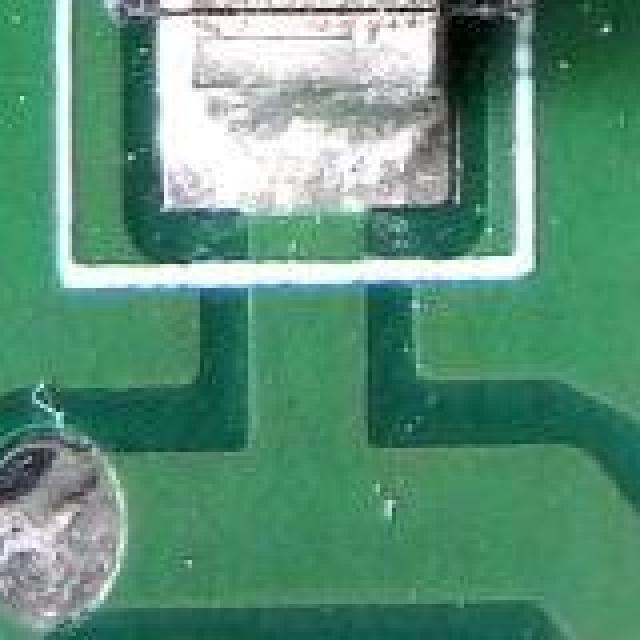capacitor: (60, 0, 544, 164)
